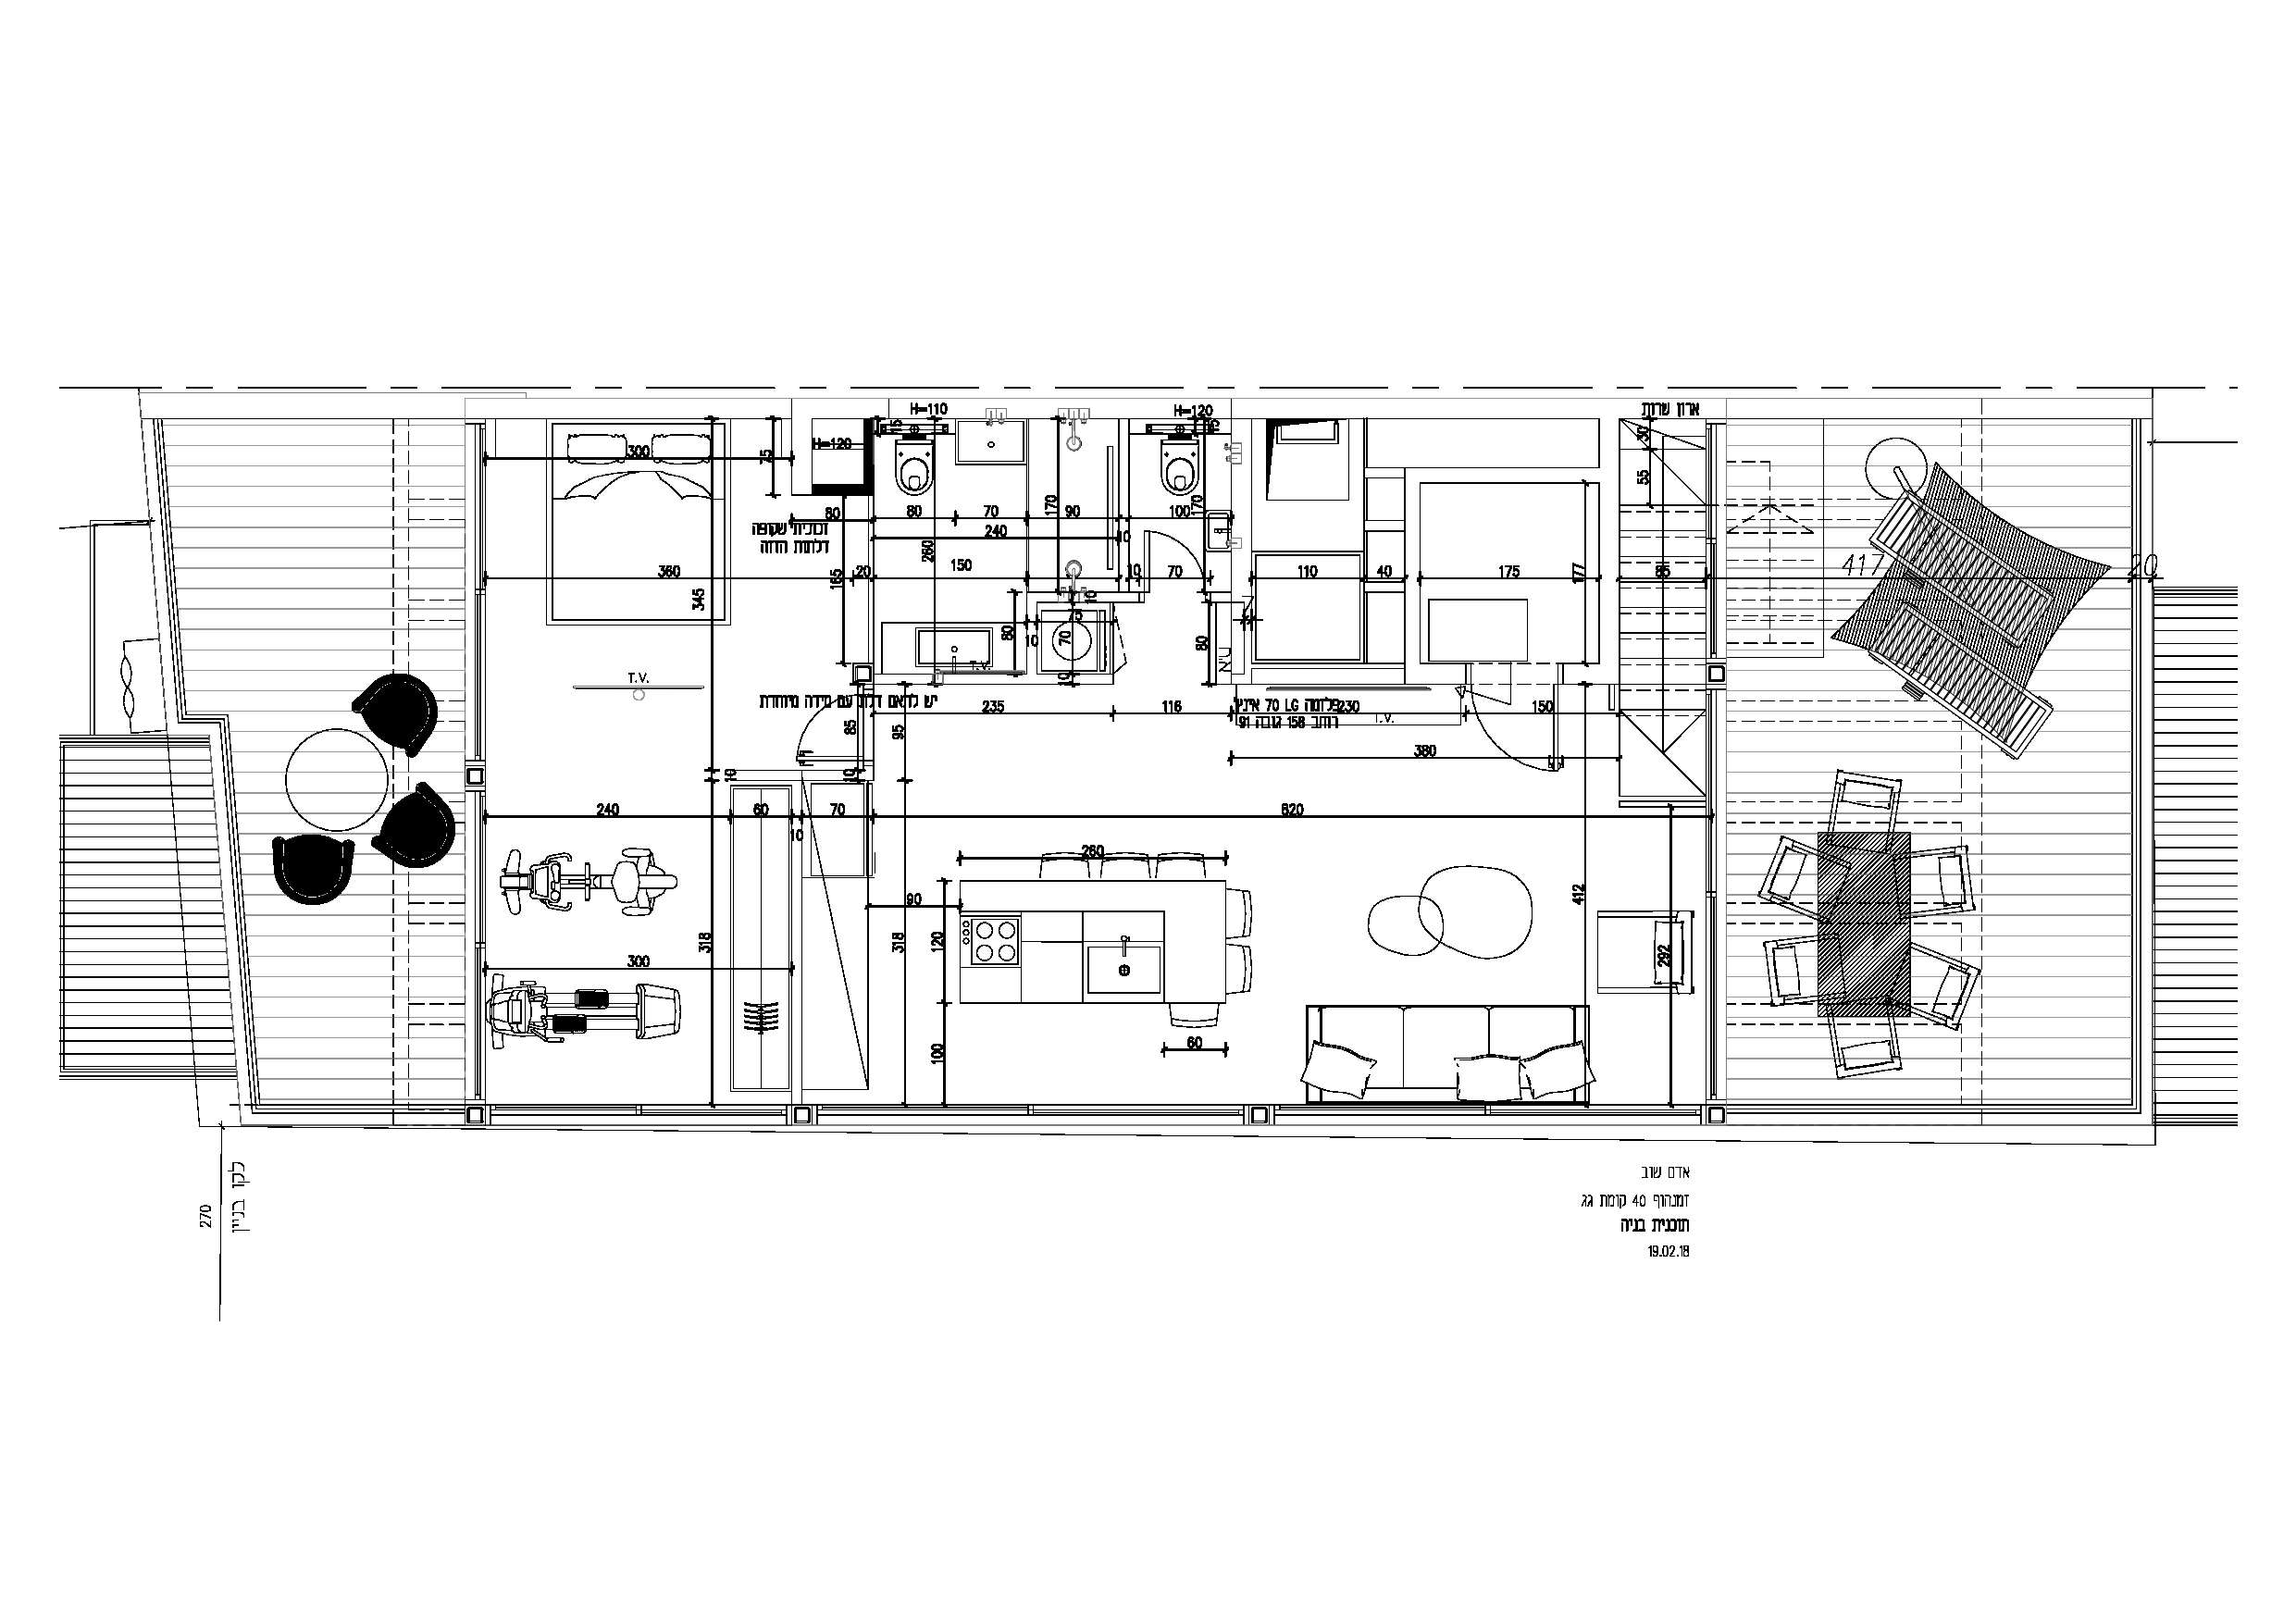door: (1470, 724, 1579, 787), (787, 699, 848, 768), (1140, 523, 1202, 571)
